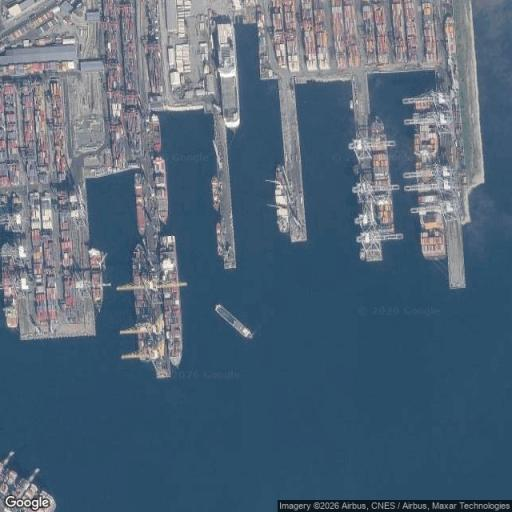ship: (415, 90, 446, 258), (160, 236, 182, 367), (371, 116, 394, 233), (132, 245, 153, 361), (217, 22, 239, 130), (215, 304, 253, 339), (89, 248, 104, 311), (275, 166, 289, 233), (153, 157, 167, 223), (135, 173, 146, 235), (151, 114, 161, 152), (212, 176, 220, 211), (216, 222, 222, 256)
